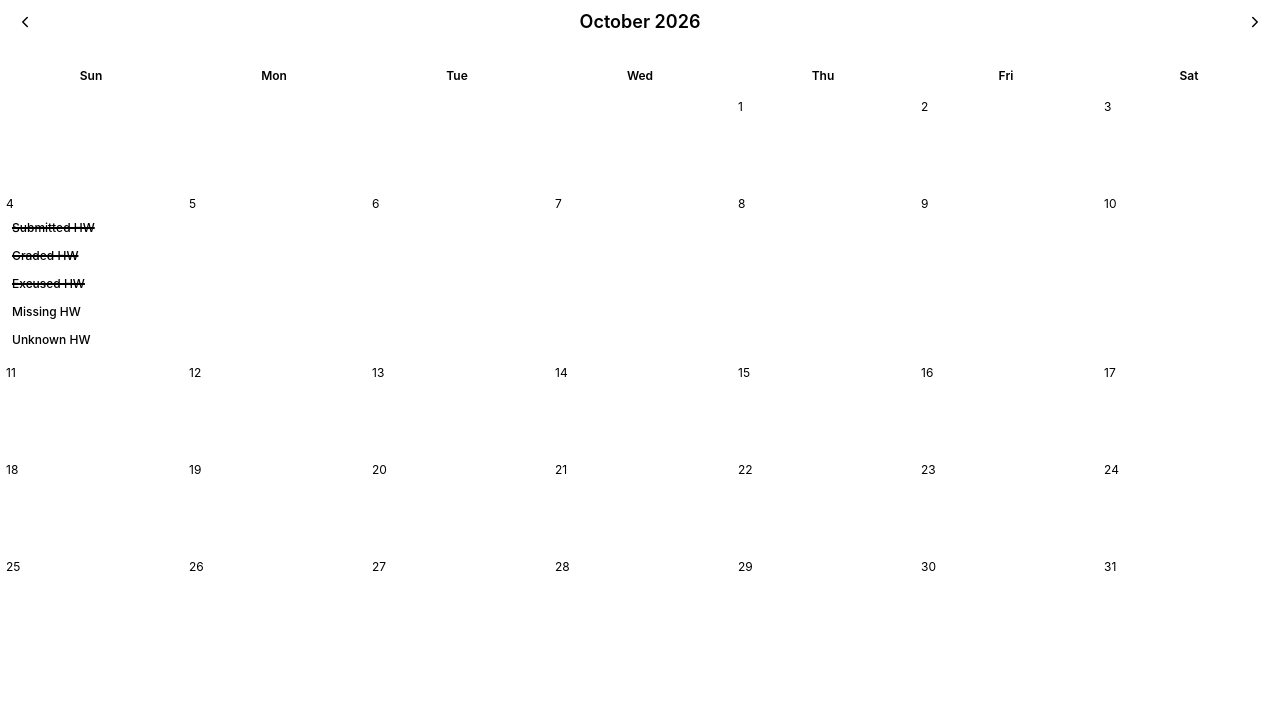
it: places due assignments on the configured-timezone calendar day and excludes no-due items
Click the button "Submitted HW": (91, 228) [6, 216, 176, 240]
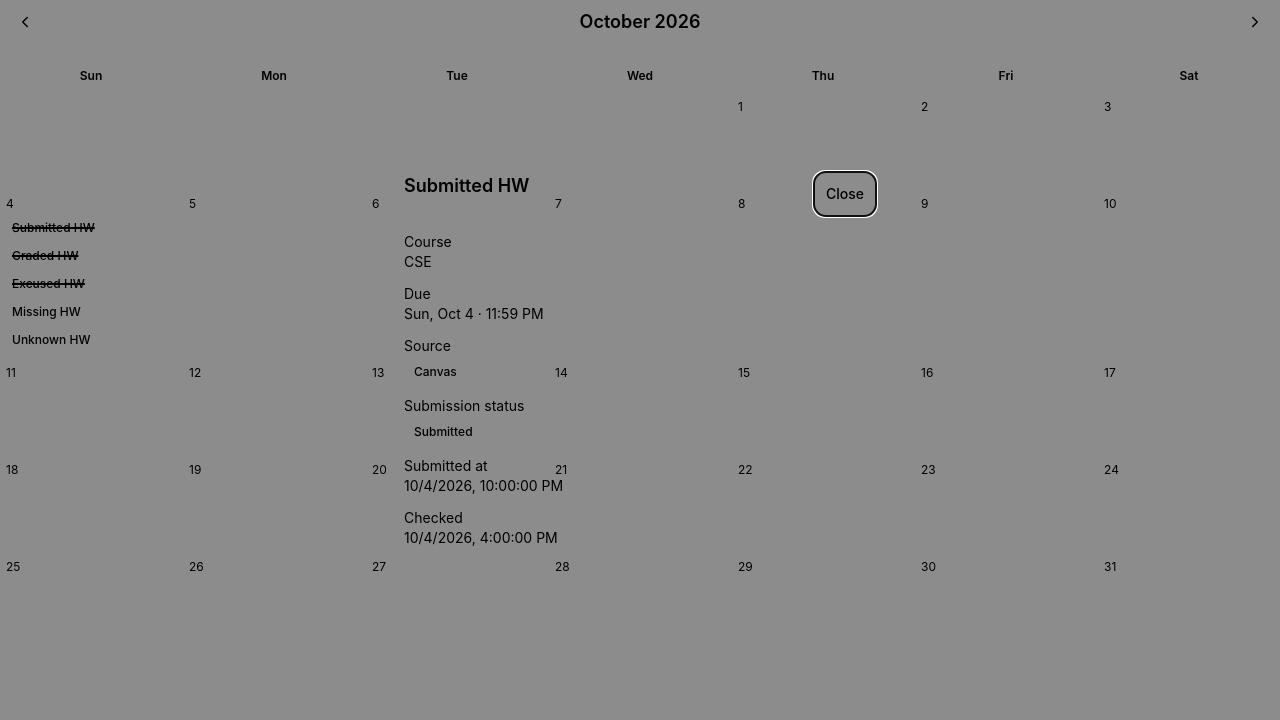
Expected: the dialog is shown, [384, 152, 896, 568]
